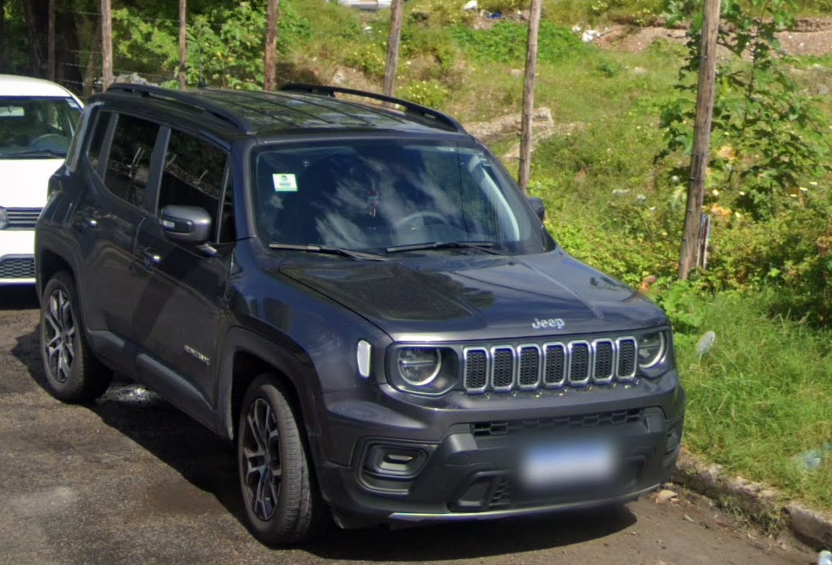car: (33, 84, 700, 543)
